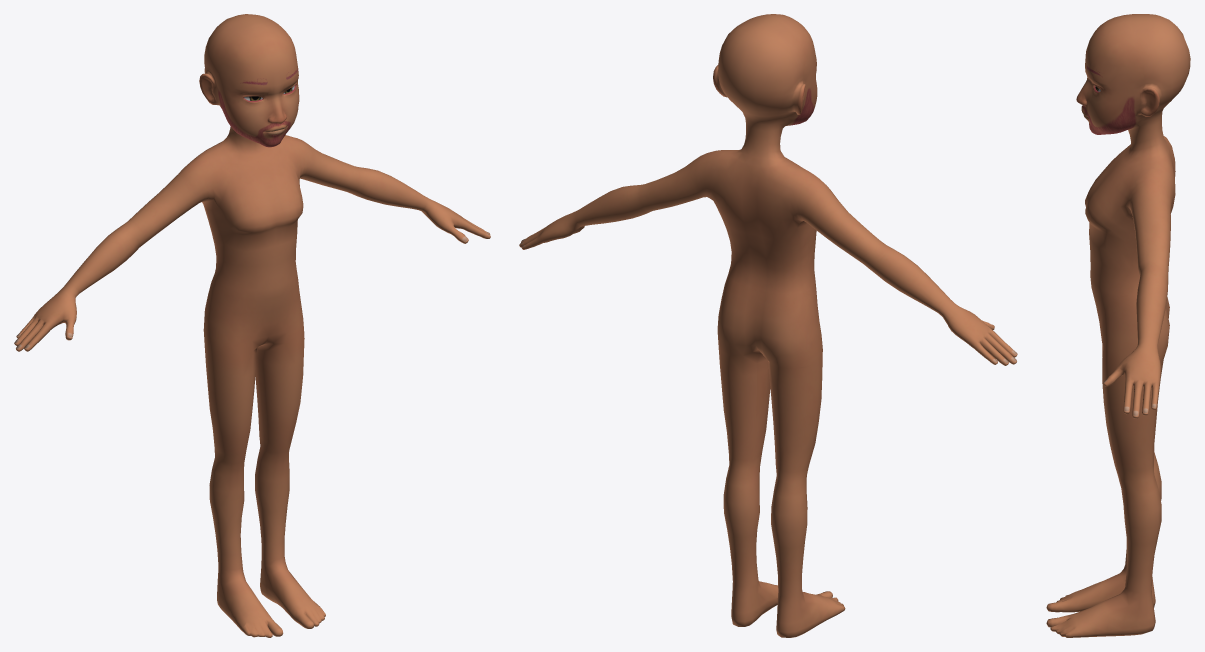
File: frame_0053.glb
3 renders of one model, left to right at view 1: azimuth 30°, elevation 25°; view 2: azimuth 150°, elevation 25°; view 3: azimuth 270°, elevation 25°, orthographic. The views are drawn at different scales.
Visible parts, largest first — view 1: frame_0053_head_geo; view 2: frame_0053_head_geo; view 3: frame_0053_head_geo.
Boxes of the visible parts, box(x1,y1,x2,y2) form: frame_0053_head_geo: box(14, 14, 490, 637); frame_0053_head_geo: box(519, 14, 1017, 637); frame_0053_head_geo: box(1046, 14, 1190, 637).
Size of the model in its own units: 1.28 by 1.5 by 0.3253.
Materials: 3 (3 with a texture image).
